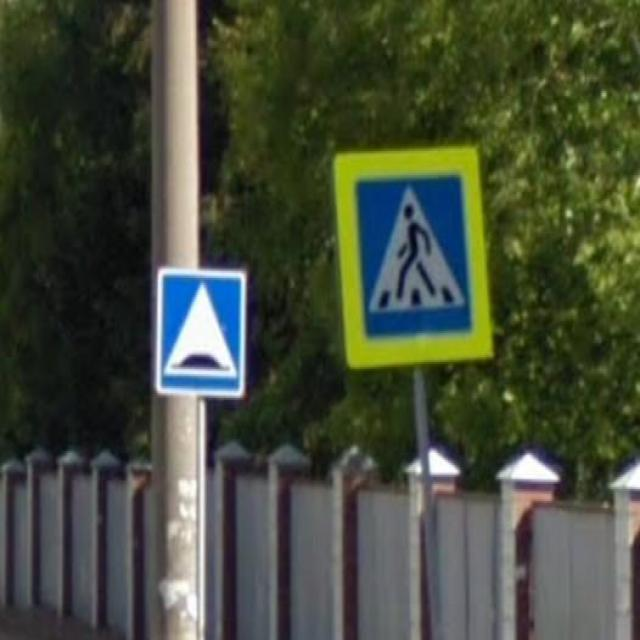Przejscie dla pieszych: (332, 144, 495, 371)
